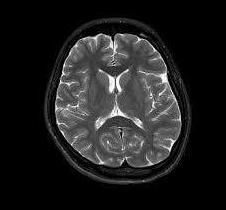Normal_Brain: (4, 1, 209, 199)
